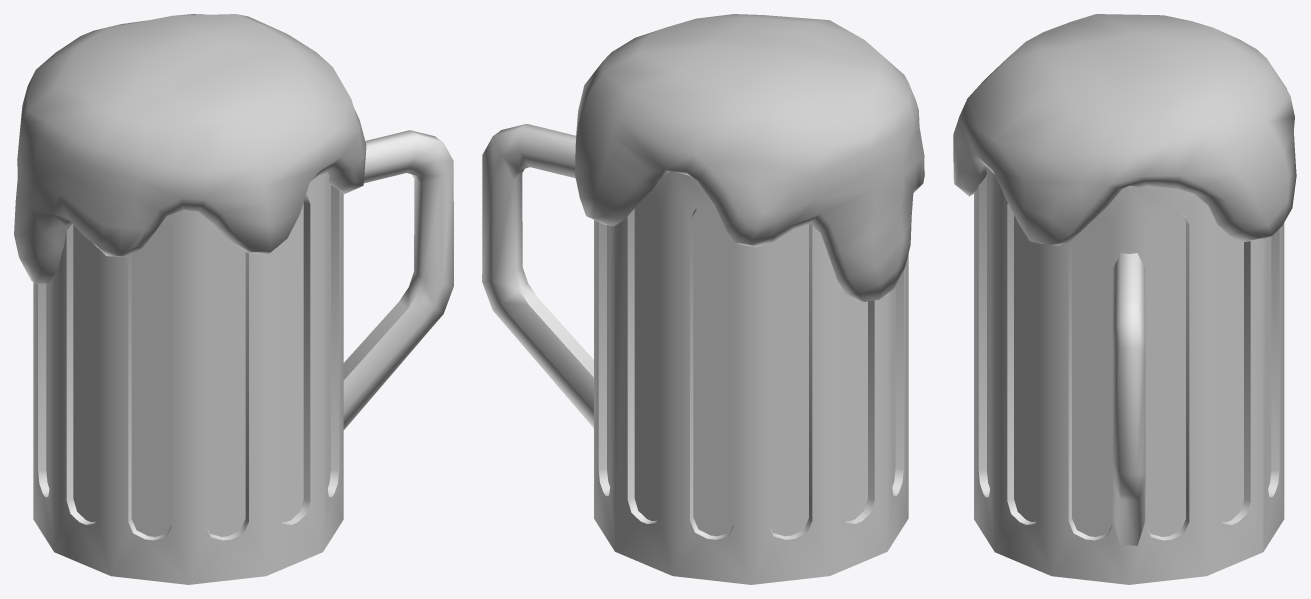
The model's file is BeerJug_02.fbx.
The picture shows the model from 3 angles, left to right: view 1: azimuth 30°, elevation 25°; view 2: azimuth 150°, elevation 25°; view 3: azimuth 270°, elevation 25°; orthographic projection.
Visible parts, largest first — view 1: BeerJug_02; view 2: BeerJug_02; view 3: BeerJug_02.
Part boxes in pixels (x1,y1,x2,y2): BeerJug_02: (14,14,453,584); BeerJug_02: (482,14,924,584); BeerJug_02: (953,14,1296,584).
Size of the model in its own units: 0.2004 by 0.2162 by 0.1433.
